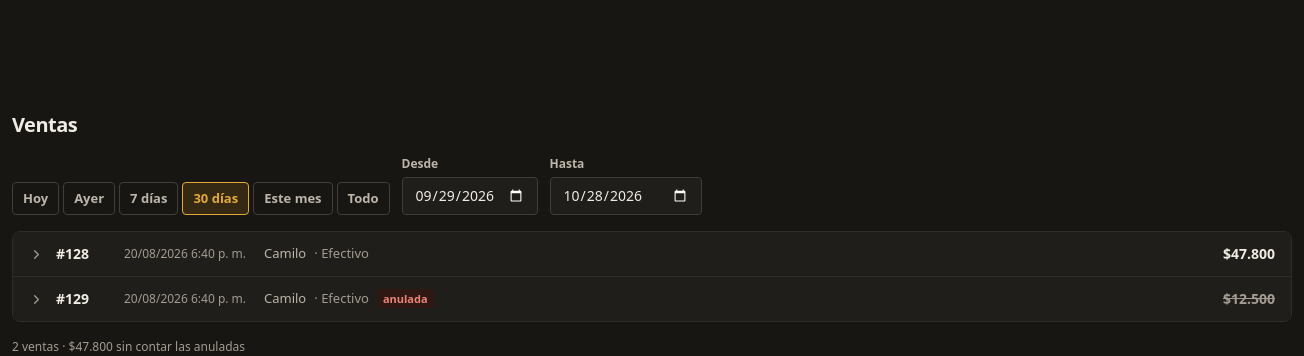
anular una venta › avisa qué pasa con la mercancía y con la plata
(page scrolled)
Expected: the text "#128" is shown, top-left (56, 244), bottom-right (89, 263)
Click the button "#128": click(185, 254) top-left (13, 232), bottom-right (1291, 276)
(page scrolled)
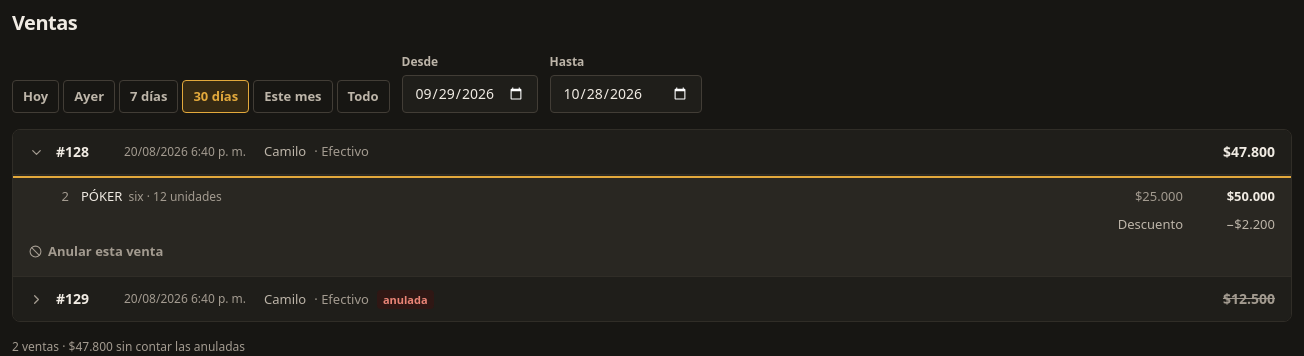
Click the button "Anular esta venta": click(96, 252) top-left (29, 242), bottom-right (163, 262)
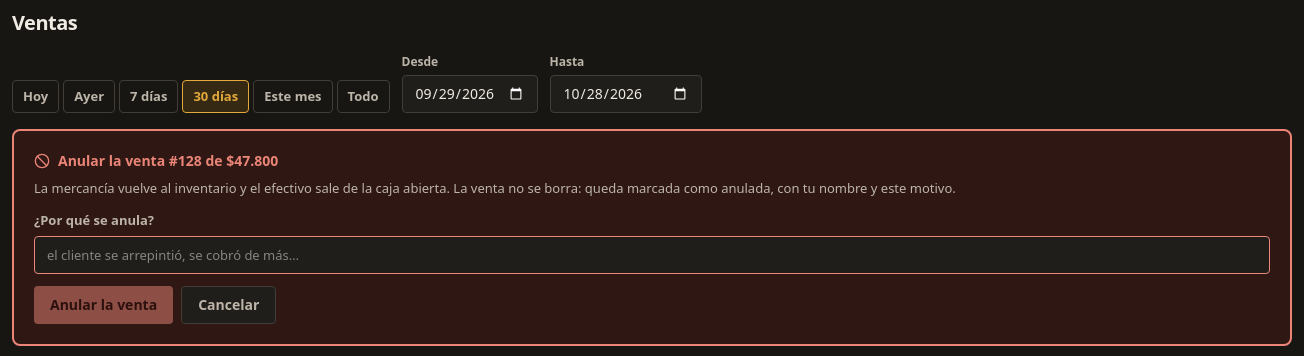
Result: the text "no se borra" is shown at top-left (34, 179), bottom-right (956, 197)
